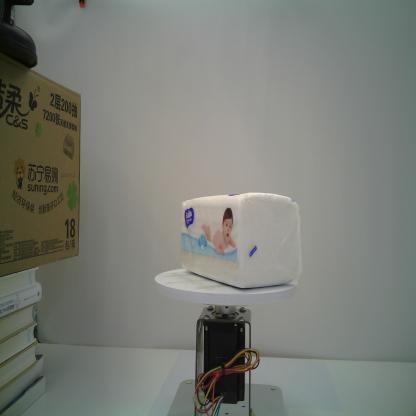Tissue: (180, 193, 302, 288)
